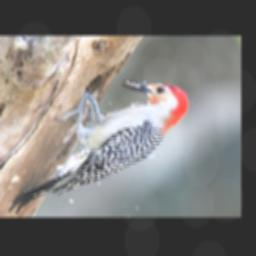Woodpecker: (10, 80, 188, 211)
